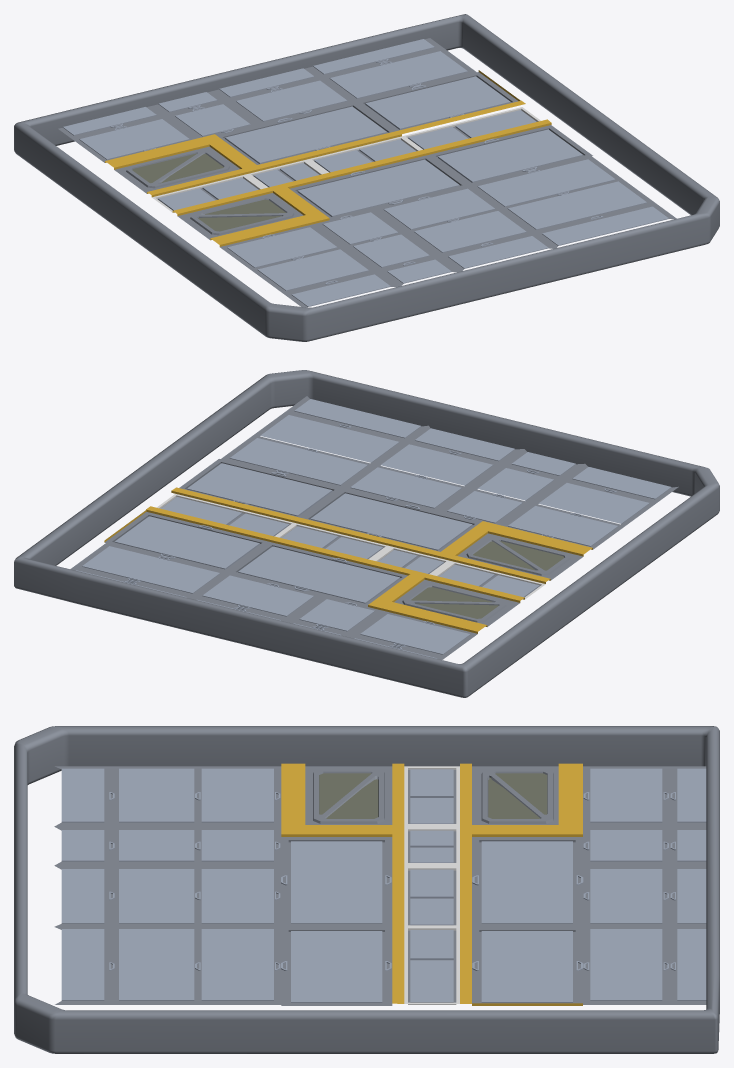
Rendered from Ground.fbx.
3 renders of one model, top to bottom at view 1: azimuth 30°, elevation 25°; view 2: azimuth 150°, elevation 25°; view 3: azimuth 270°, elevation 25°, orthographic. The views are drawn at different scales.
Parts seen in each view (by area): view 1: Border1, pCube95 (×2), pCube100 (×4), pCube113, pCube111, pCube122, pPlane1 (×2), pCube87 (×2), pCube112; view 2: Border1, pCube95 (×2), pCube100 (×3), pCube113, pCube111, pCube122, pPlane1 (×2), pCube112, pCube87 (×2); view 3: Border1, pCube95 (×2), pCube100 (×4), pCube113, pCube111, pCube122, pPlane1 (×2), pCube112, pCube87 (×2).
Part boxes in pixels (bbox=[...]): Border1: bbox=[14, 14, 719, 341]; pCube95 (×2): bbox=[147, 100, 624, 271]; pCube100 (×4): bbox=[58, 38, 520, 193]; pCube113: bbox=[253, 210, 533, 294]; pCube111: bbox=[284, 233, 554, 307]; pCube122: bbox=[503, 180, 655, 232]; pPlane1 (×2): bbox=[132, 153, 285, 231]; pCube87 (×2): bbox=[126, 149, 294, 235]; pCube112: bbox=[534, 203, 676, 248]; Border1: bbox=[14, 370, 719, 697]; pCube95 (×2): bbox=[146, 435, 625, 602]; pCube100 (×3): bbox=[73, 510, 519, 659]; pCube113: bbox=[376, 441, 656, 525]; pCube111: bbox=[407, 426, 678, 502]; pCube122: bbox=[254, 412, 406, 464]; pPlane1 (×2): bbox=[411, 541, 564, 618]; pCube112: bbox=[285, 396, 428, 441]; pCube87 (×2): bbox=[402, 536, 570, 622]; Border1: bbox=[14, 726, 719, 1053]; pCube95 (×2): bbox=[194, 763, 471, 1005]; pCube100 (×4): bbox=[472, 763, 706, 1005]; pCube113: bbox=[111, 766, 194, 926]; pCube111: bbox=[54, 766, 111, 926]; pCube122: bbox=[111, 927, 194, 1004]; pPlane1 (×2): bbox=[319, 773, 547, 818]; pCube112: bbox=[55, 927, 111, 1004]; pCube87 (×2): bbox=[313, 769, 553, 823].
Size of the model in its own units: 561 by 36.61 by 575.
